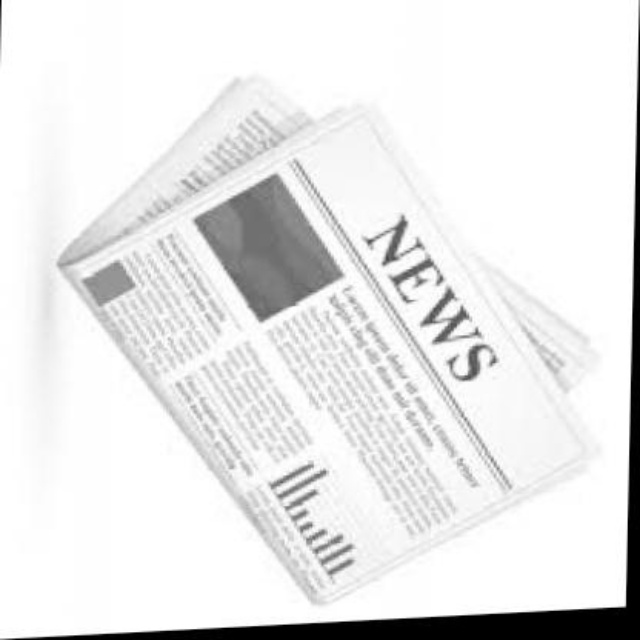trash: (58, 77, 591, 602)
